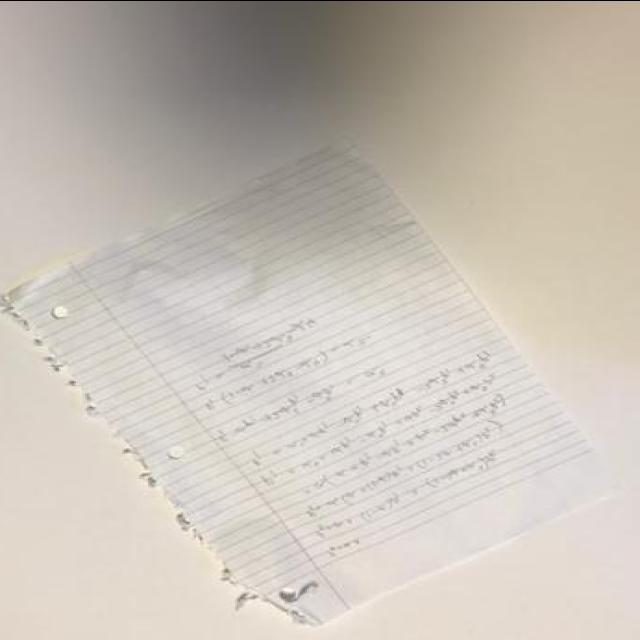kertas: (0, 135, 623, 632)
